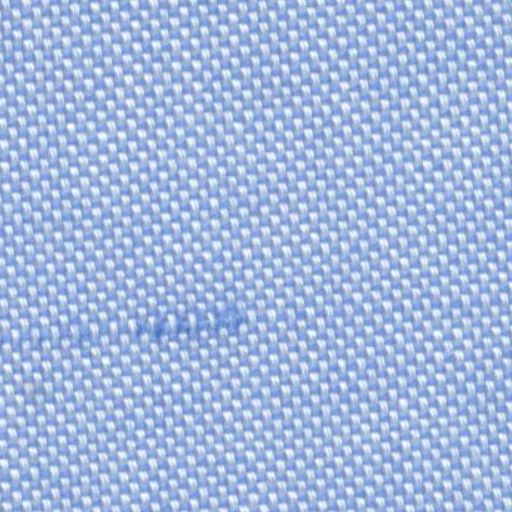DaiSha: (4, 295, 283, 348)
